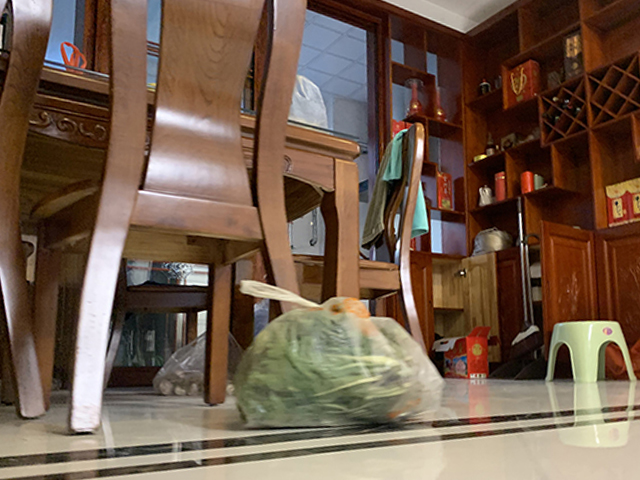cabinet: (474, 221, 640, 379)
stool: (28, 1, 301, 436), (291, 121, 429, 357), (544, 319, 637, 383)
